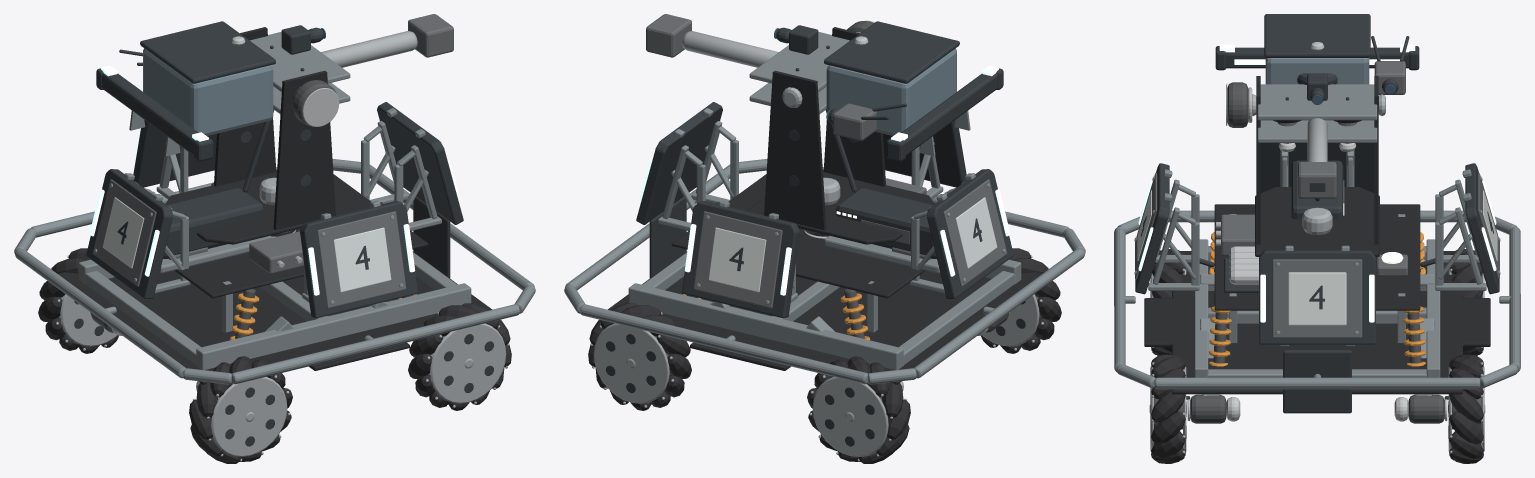
The model's file is robot-4-spec2026v4.glb.
3 renders of one model, left to right at view 1: azimuth 30°, elevation 25°; view 2: azimuth 150°, elevation 25°; view 3: azimuth 270°, elevation 25°, orthographic.
Parts seen in each view (by area): view 1: Chassis_RobotMatteAluminum, Chassis_CarbonPlate, Turret_CarbonPlate, MagazineBox, Chassis_RobotMatteGraphite, MagazineLid, Wheel_2_MachinedAlloy, Wheel_0_MachinedAlloy, ArmorModuleBody, Turret_RobotMatteGraphite, ArmorHitFace.003, ArmorModuleBody.003 (+23 smaller); view 2: Chassis_RobotMatteAluminum, Chassis_CarbonPlate, Turret_CarbonPlate, MagazineBox, Chassis_RobotMatteGraphite, MagazineLid, Wheel_3_MachinedAlloy, Wheel_1_MachinedAlloy, ArmorModuleBody, Turret_RobotMatteGraphite, ArmorHitFace.001, ArmorModuleBody.001 (+23 smaller); view 3: Chassis_CarbonPlate, Chassis_RobotMatteAluminum, Turret_CarbonPlate, GunPitch_RobotMatteAluminum, Chassis_RobotMatteGraphite, MagazineLid, ArmorHitFace, ArmorModuleBody, ArmorSticker, Wheel_2_PolyurethaneRoller, Wheel_3_PolyurethaneRoller, Chassis_MotorHousing (+27 smaller).
Boxes of the visible parts, x1,y1,x2,y2 form: Chassis_RobotMatteAluminum: (14,159,535,384); Chassis_CarbonPlate: (57,174,491,384); Turret_CarbonPlate: (166,27,352,244); MagazineBox: (143,48,273,135); Chassis_RobotMatteGraphite: (163,188,450,278); MagazineLid: (140,21,275,83); Wheel_2_MachinedAlloy: (413,312,509,407); Wheel_0_MachinedAlloy: (193,365,290,461); ArmorModuleBody: (377,102,463,224); Turret_RobotMatteGraphite: (96,49,311,192); ArmorHitFace.003: (317,211,406,308); ArmorModuleBody.003: (300,201,417,318); Chassis_RobotMatteAluminum: (564,159,1085,384); Chassis_CarbonPlate: (608,174,1042,384); Turret_CarbonPlate: (747,27,933,244); MagazineBox: (826,48,956,135); Chassis_RobotMatteGraphite: (649,188,936,278); MagazineLid: (824,21,959,83); Wheel_3_MachinedAlloy: (590,312,686,407); Wheel_1_MachinedAlloy: (809,365,906,461); ArmorModuleBody: (636,102,722,224); Turret_RobotMatteGraphite: (788,68,1003,192); ArmorHitFace.001: (693,211,782,308); ArmorModuleBody.001: (682,201,799,318); Chassis_CarbonPlate: (1144,204,1490,394); Chassis_RobotMatteAluminum: (1114,210,1520,395); Turret_CarbonPlate: (1255,76,1379,256); GunPitch_RobotMatteAluminum: (1257,84,1377,142); Chassis_RobotMatteGraphite: (1186,160,1448,413); MagazineLid: (1264,14,1370,57); ArmorHitFace: (1272,259,1362,337); ArmorModuleBody: (1259,250,1375,344); ArmorSticker: (1288,272,1346,325); Wheel_2_PolyurethaneRoller: (1151,354,1185,463); Wheel_3_PolyurethaneRoller: (1449,354,1483,463); Chassis_MotorHousing: (1190,261,1444,423).
Bounding box in the file's own units: 0.5869 × 0.5506 × 0.5869.
